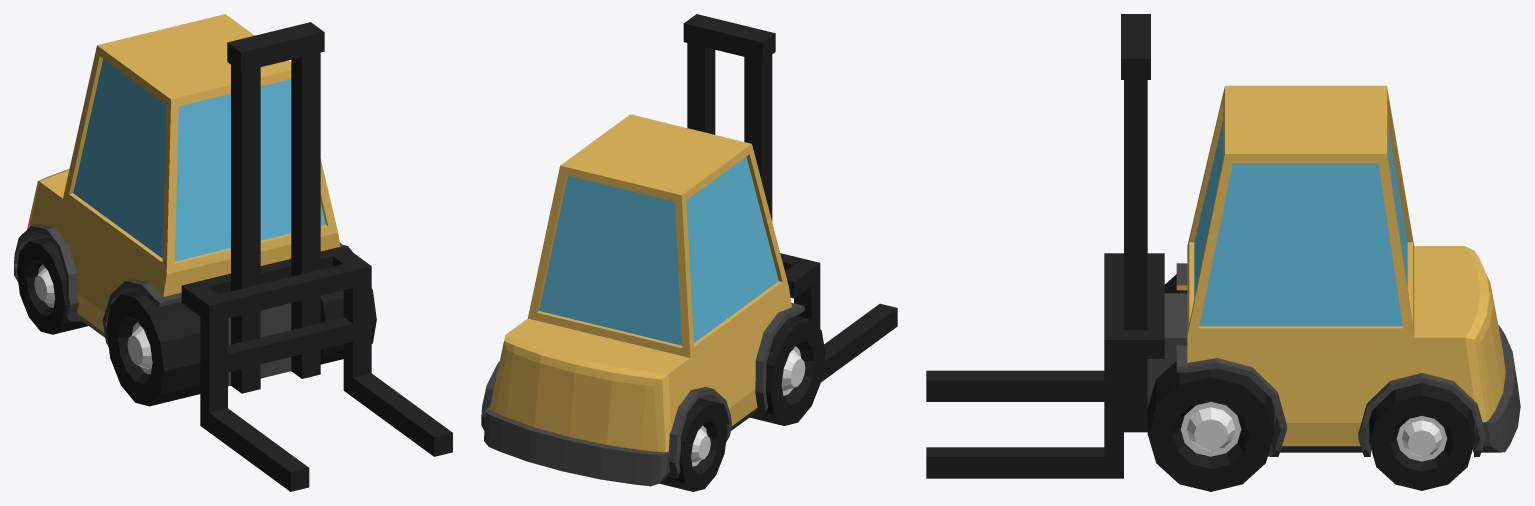
Rendered from empilhadeira.glb.
The picture shows the model from 3 angles, left to right: view 1: azimuth 30°, elevation 25°; view 2: azimuth 150°, elevation 25°; view 3: azimuth 270°, elevation 25°; orthographic projection. The views are drawn at different scales.
Visible parts, largest first — view 1: body, pa, wheel_front_left, wheel_back_left, wheel_front_right; view 2: body, wheel_front_left, pa, wheel_back_left; view 3: body, pa, wheel_front_right, wheel_back_right.
Part boxes in pixels (x1,y1,x2,y2): body: (14,14,343,393); pa: (181,246,452,491); wheel_front_left: (106,290,200,406); wheel_back_left: (16,237,88,334); wheel_front_right: (320,245,376,364); body: (481,14,804,486); wheel_front_left: (750,316,825,425); pa: (780,253,897,382); wheel_back_left: (659,399,727,491); body: (1121,14,1520,456); pa: (926,253,1164,478); wheel_front_right: (1147,361,1274,491); wheel_back_right: (1369,383,1474,490).
Size of the model in its own units: 2.55 by 4.17 by 5.64.
